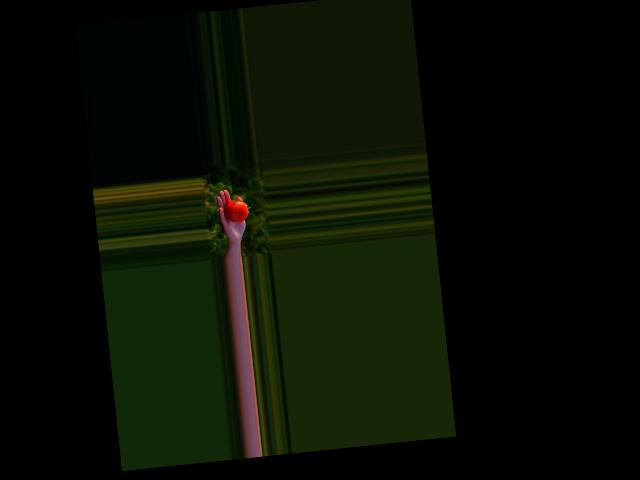tomato: (223, 199, 248, 223)
